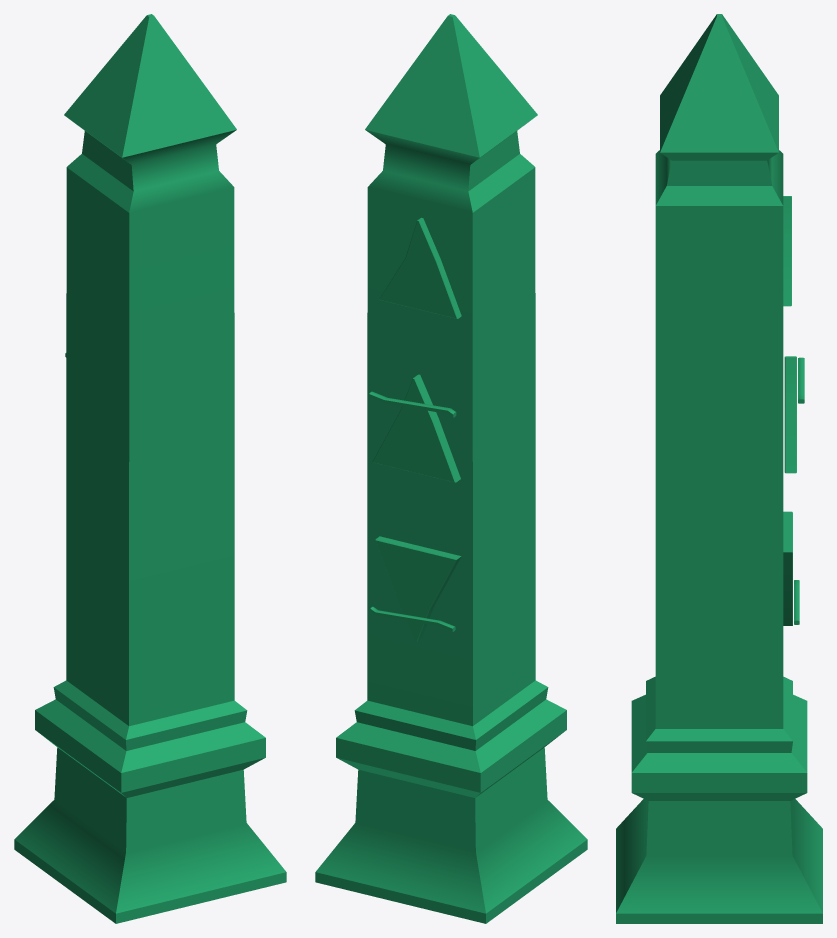
Rendered from Obelisk_All.fbx.
The picture shows the model from 3 angles, left to right: view 1: azimuth 30°, elevation 25°; view 2: azimuth 150°, elevation 25°; view 3: azimuth 270°, elevation 25°; orthographic projection.
Visible parts, largest first — view 1: MESH_Obelisk_All; view 2: MESH_Obelisk_All; view 3: MESH_Obelisk_All.
Boxes of the visible parts, left/top/right/bottom form: MESH_Obelisk_All: left=14, top=14, right=286, bottom=923; MESH_Obelisk_All: left=315, top=14, right=587, bottom=923; MESH_Obelisk_All: left=616, top=14, right=822, bottom=923.
Size of the model in its own units: 18.96 by 90.28 by 19.54.
